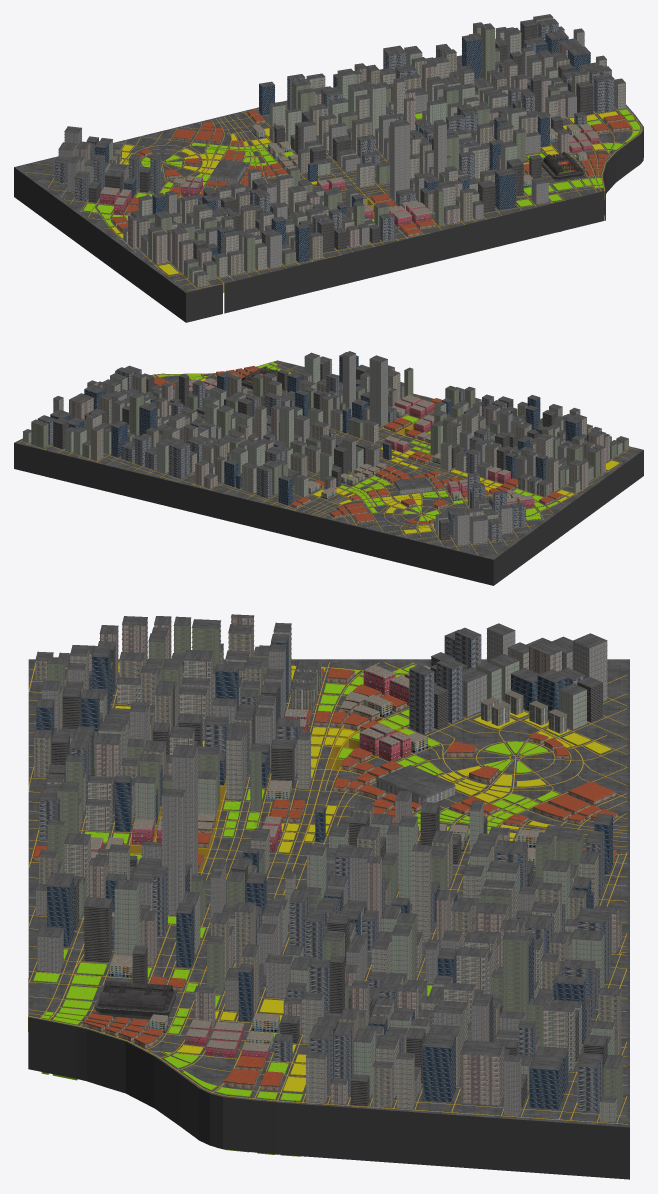
Rendered from city_scene_demo.fbx.
3 views of the same model, one above another, from view 1: azimuth 30°, elevation 25°; view 2: azimuth 150°, elevation 25°; view 3: azimuth 270°, elevation 25° (orthographic). The views are drawn at different scales.
Visible parts, largest first — view 1: base, Cube.1396, city old 1.004, Cube.1406, Cube.1193, Cube.1390, Cube.1219, Cube.1153, Cube.1333, Cube.1524, Cube.1535, Cube.1194 (+9 smaller); view 2: base, Cube.1396, Cube.1210, Cube.1390, blocks.002, Cube.1333, Cube.1541, Cube.1249, Cube.1144, Cube.1219, Cube.1134, Cube.1153 (+20 smaller); view 3: base, Cube.1144, Cube.1390, city old 1.004, Cube.1162, Cube.1396, Cube.1153, Cube.1380, Cube.1123, Cube.1381, Cube.1327, Cube.1406 (+70 smaller).
Part boxes in pixels (x1,y1,x2,y2): base: (14, 51, 643, 322); Cube.1396: (390, 119, 410, 200); city old 1.004: (541, 152, 584, 181); Cube.1406: (494, 168, 516, 209); Cube.1193: (593, 74, 614, 112); Cube.1390: (433, 119, 447, 178); Cube.1219: (462, 34, 481, 78); Cube.1153: (481, 23, 495, 79); Cube.1333: (369, 83, 385, 136); Cube.1524: (295, 223, 309, 262); Cube.1535: (266, 231, 281, 267); Cube.1194: (576, 81, 593, 114); base: (14, 360, 643, 585); Cube.1396: (369, 355, 387, 426); Cube.1210: (168, 440, 189, 478); Cube.1390: (342, 351, 355, 414); blocks.002: (518, 473, 552, 496); Cube.1333: (279, 405, 293, 446); Cube.1541: (454, 509, 469, 545); Cube.1249: (256, 465, 272, 498); Cube.1144: (69, 393, 93, 419); Cube.1219: (139, 403, 157, 435); Cube.1134: (111, 420, 127, 457); Cube.1153: (129, 392, 143, 435); base: (28, 659, 629, 1179); Cube.1144: (460, 1040, 504, 1105); Cube.1390: (161, 788, 185, 915); city old 1.004: (94, 980, 177, 1019); Cube.1162: (422, 1033, 456, 1102); Cube.1396: (172, 744, 198, 876); Cube.1153: (502, 932, 528, 1020); Cube.1380: (114, 879, 139, 956); Cube.1123: (528, 1054, 563, 1109); Cube.1381: (84, 897, 112, 962); Cube.1327: (412, 844, 431, 940); Cube.1406: (46, 872, 74, 946).
Bounding box in the file's own units: 202759 × 37151 × 110160.
